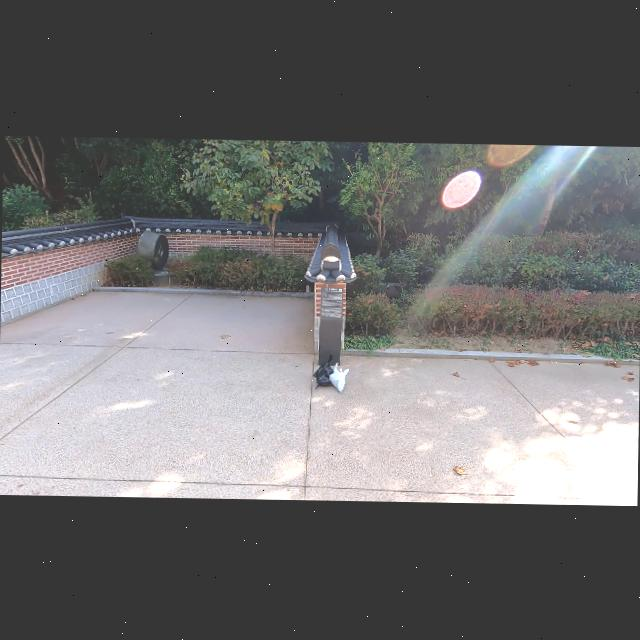trash: (311, 352, 335, 380), (327, 366, 351, 392), (314, 366, 332, 389), (330, 359, 342, 376)
